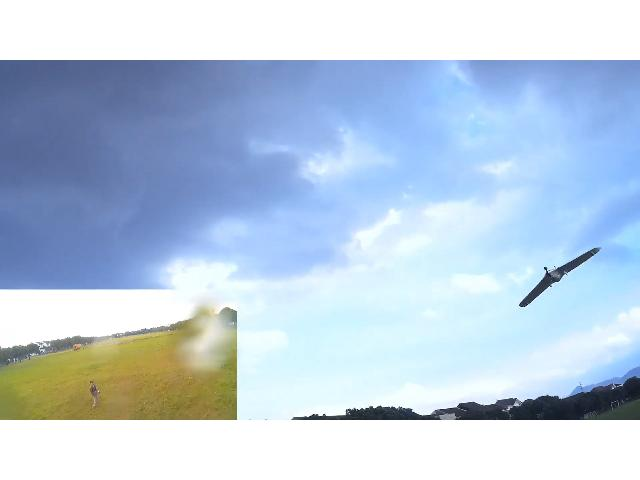Anti-Drone: (520, 247, 600, 308)
